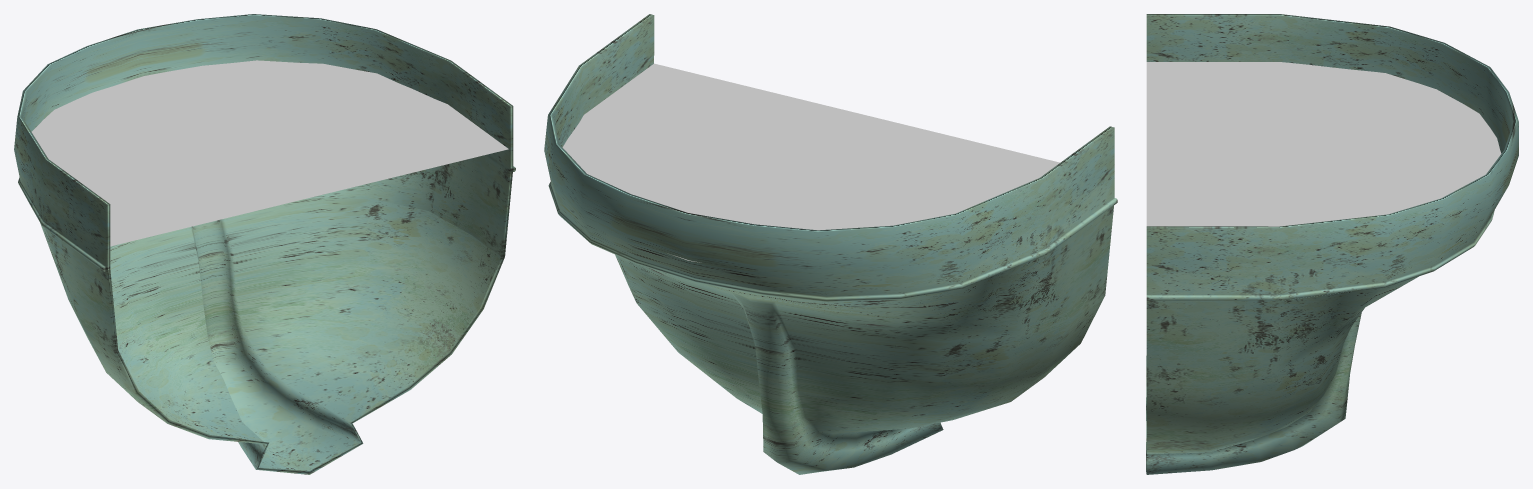
File: boat_G_stern.fbx
3 views of the same model, side by side, from view 1: azimuth 30°, elevation 25°; view 2: azimuth 150°, elevation 25°; view 3: azimuth 270°, elevation 25° (orthographic). The views are drawn at different scales.
Parts seen in each view (by area): view 1: boat_G_stern; view 2: boat_G_stern; view 3: boat_G_stern.
Boxes of the visible parts, x1,y1,x2,y2 form: boat_G_stern: (14, 14, 515, 474); boat_G_stern: (544, 14, 1117, 474); boat_G_stern: (1146, 14, 1518, 474).
Bounding box in the file's own units: 1014 × 750 × 734.
